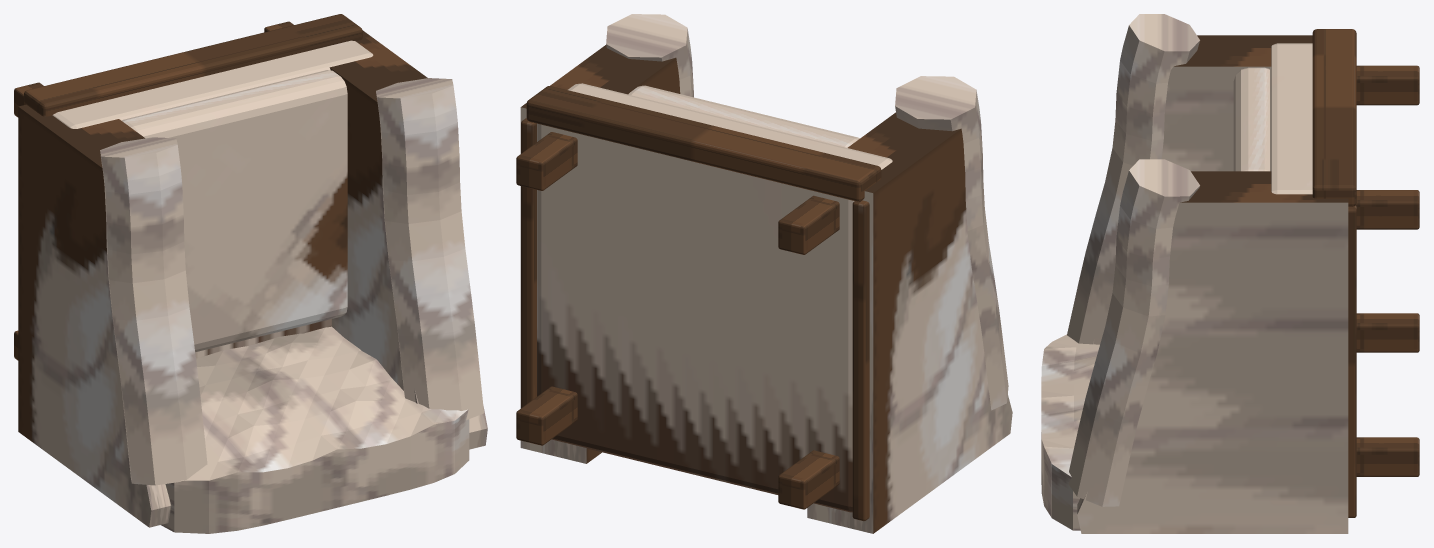
The model's file is pz_chair_seating_indoor_03_victorian_6.obj.
3 renders of one model, left to right at view 1: azimuth 30°, elevation 25°; view 2: azimuth 150°, elevation 25°; view 3: azimuth 270°, elevation 25°, orthographic. The views are drawn at different scales.
Parts seen in each view (by area): view 1: Victorian_6_|_rounded_seat_cushion_0, Victorian_6_|_closed_curved_padded_back, Victorian_6_|_closed_upholstered_side_-1, Victorian_6_|_EDITABLE_rolled_upholstered_arm_-1, Victorian_6_|_EDITABLE_rolled_upholstered_arm_1, Victorian_6_|_closed_upholstered_side_1, Victorian_6_|_native_front_wooden_apron, Victorian_6_|_closed_upholstered_base; view 2: Victorian_6_|_closed_upholstered_base, Victorian_6_|_closed_upholstered_side_-1, Victorian_6_|_native_front_wooden_apron, Victorian_6_|_EDITABLE_rolled_upholstered_arm_-1, Victorian_6_|_wood_side_plinth_-0.443, Victorian_6_|_closed_upholstered_side_1, Victorian_6_|_EDITABLE_rolled_upholstered_arm_1, Victorian_6_|_wood_side_plinth_0.443, Victorian_6_|_rounded_seat_cushion_0, Victorian_6_|_short_wood_foot_(0.35,_-0.3), Victorian_6_|_short_wood_foot_(-0.35,_-0.3), Victorian_6_|_short_wood_foot_(-0.35,_0.35) (+1 smaller); view 3: Victorian_6_|_closed_upholstered_side_1, Victorian_6_|_EDITABLE_rolled_upholstered_arm_1, Victorian_6_|_EDITABLE_rolled_upholstered_arm_-1, Victorian_6_|_closed_upholstered_side_-1, Victorian_6_|_native_front_wooden_apron, Victorian_6_|_closed_curved_padded_back, Victorian_6_|_closed_upholstered_base, Victorian_6_|_rounded_seat_cushion_0, Victorian_6_|_wood_side_plinth_0.443, Victorian_6_|_short_wood_foot_(-0.35,_0.35), Victorian_6_|_short_wood_foot_(-0.35,_-0.3), Victorian_6_|_short_wood_foot_(0.35,_0.35) (+1 smaller).
Part boxes in pixels (bbox=[...]): Victorian_6_|_rounded_seat_cushion_0: bbox=[122, 70, 347, 352]; Victorian_6_|_closed_curved_padded_back: bbox=[161, 326, 469, 533]; Victorian_6_|_closed_upholstered_side_-1: bbox=[18, 104, 171, 527]; Victorian_6_|_EDITABLE_rolled_upholstered_arm_-1: bbox=[100, 137, 207, 485]; Victorian_6_|_EDITABLE_rolled_upholstered_arm_1: bbox=[376, 78, 483, 420]; Victorian_6_|_closed_upholstered_side_1: bbox=[329, 30, 487, 449]; Victorian_6_|_native_front_wooden_apron: bbox=[24, 14, 362, 116]; Victorian_6_|_closed_upholstered_base: bbox=[52, 40, 373, 357]; Victorian_6_|_closed_upholstered_base: bbox=[537, 83, 892, 512]; Victorian_6_|_closed_upholstered_side_-1: bbox=[807, 112, 1012, 533]; Victorian_6_|_native_front_wooden_apron: bbox=[526, 86, 881, 201]; Victorian_6_|_EDITABLE_rolled_upholstered_arm_-1: bbox=[895, 76, 1008, 410]; Victorian_6_|_wood_side_plinth_-0.443: bbox=[852, 200, 869, 521]; Victorian_6_|_closed_upholstered_side_1: bbox=[520, 45, 680, 463]; Victorian_6_|_EDITABLE_rolled_upholstered_arm_1: bbox=[606, 14, 693, 97]; Victorian_6_|_wood_side_plinth_0.443: bbox=[521, 118, 536, 408]; Victorian_6_|_rounded_seat_cushion_0: bbox=[628, 85, 859, 147]; Victorian_6_|_short_wood_foot_(0.35,_-0.3): bbox=[516, 386, 577, 445]; Victorian_6_|_short_wood_foot_(-0.35,_-0.3): bbox=[778, 450, 839, 509]; Victorian_6_|_short_wood_foot_(-0.35,_0.35): bbox=[778, 195, 839, 254]; Victorian_6_|_closed_upholstered_side_1: bbox=[1077, 171, 1348, 533]; Victorian_6_|_EDITABLE_rolled_upholstered_arm_1: bbox=[1068, 159, 1199, 506]; Victorian_6_|_EDITABLE_rolled_upholstered_arm_-1: bbox=[1067, 14, 1199, 344]; Victorian_6_|_closed_upholstered_side_-1: bbox=[1092, 35, 1312, 344]; Victorian_6_|_native_front_wooden_apron: bbox=[1312, 29, 1356, 206]; Victorian_6_|_closed_curved_padded_back: bbox=[1041, 334, 1099, 530]; Victorian_6_|_closed_upholstered_base: bbox=[1269, 43, 1312, 194]; Victorian_6_|_rounded_seat_cushion_0: bbox=[1233, 67, 1269, 171]; Victorian_6_|_wood_side_plinth_0.443: bbox=[1348, 205, 1356, 517]; Victorian_6_|_short_wood_foot_(-0.35,_0.35): bbox=[1356, 65, 1419, 105]; Victorian_6_|_short_wood_foot_(-0.35,_-0.3): bbox=[1356, 313, 1419, 352]; Victorian_6_|_short_wood_foot_(0.35,_0.35): bbox=[1355, 190, 1419, 229].
Size of the model in its own units: 0.982 by 0.9551 by 0.9004.
1 material, 1 textured.
